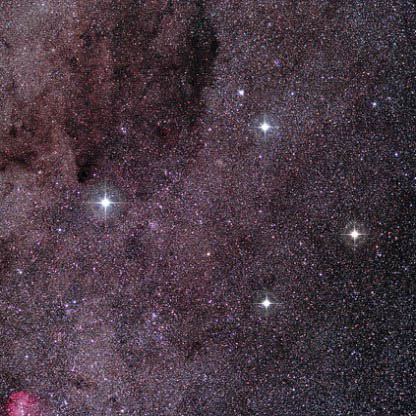Southern Cross: (80, 172, 130, 226), (240, 111, 284, 145), (334, 215, 371, 254), (248, 283, 280, 318)
